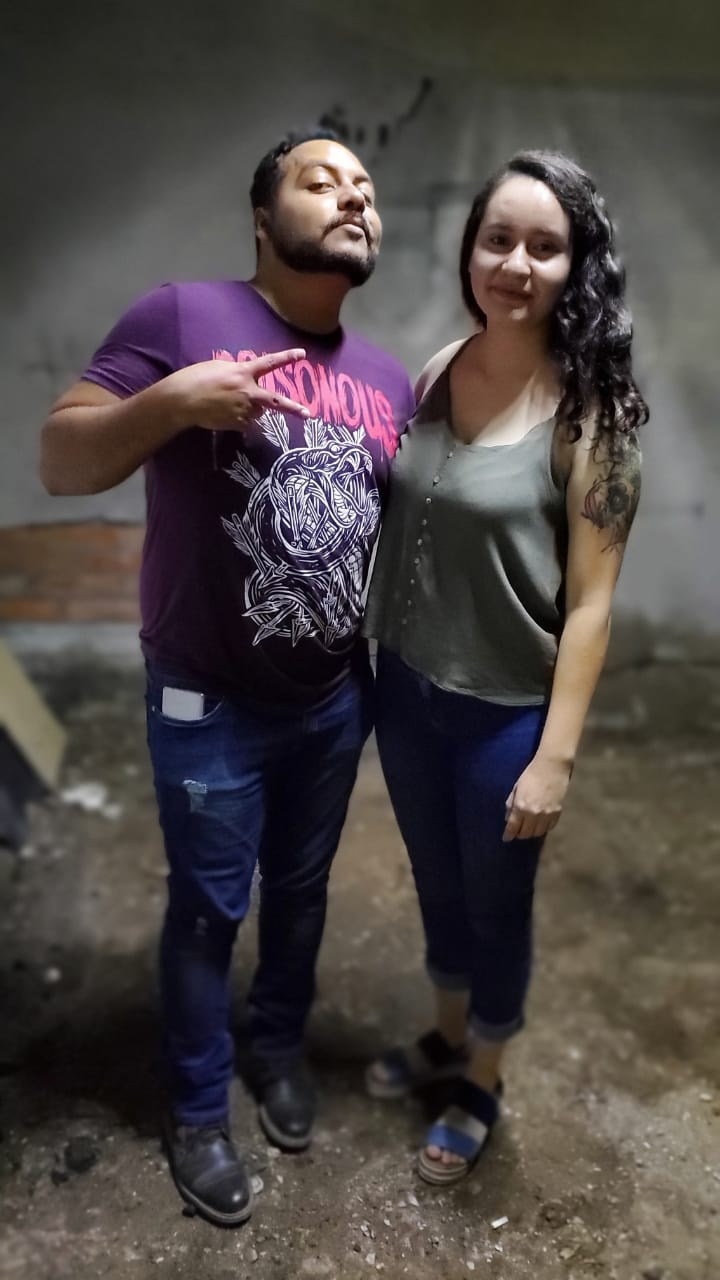Yoshi: (129, 87, 401, 471)
